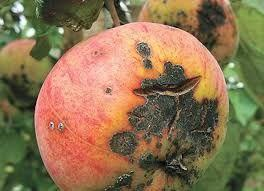Apple: (34, 23, 230, 189)
